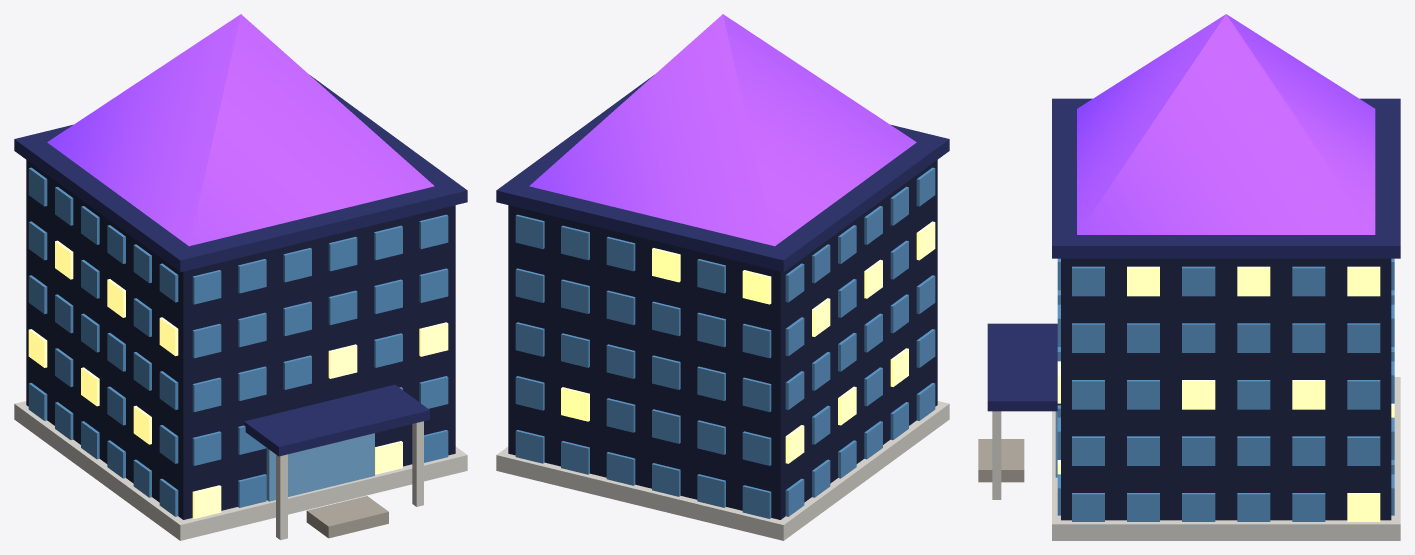
3 views of the same model, side by side, from view 1: azimuth 30°, elevation 25°; view 2: azimuth 150°, elevation 25°; view 3: azimuth 270°, elevation 25° (orthographic). The views are drawn at different scales.
Parts seen in each view (by area): view 1: body, glowing_pyramid, windows, cornice, plinth, entry_canopy, lobby_glass, step, pillar_l, pillar_r; view 2: body, glowing_pyramid, windows, cornice, plinth; view 3: body, glowing_pyramid, windows, cornice, plinth, entry_canopy, step, pillar_r.
Boxes of the visible parts, left/top/right/bottom form: body: left=26, top=160, right=455, bottom=519; glowing_pyramid: left=47, top=14, right=434, bottom=246; windows: left=28, top=167, right=448, bottom=518; cornice: left=14, top=74, right=467, bottom=272; plinth: left=14, top=401, right=467, bottom=540; entry_canopy: left=244, top=384, right=429, bottom=456; lobby_glass: left=266, top=433, right=374, bottom=501; step: left=306, top=496, right=388, bottom=538; pillar_l: left=276, top=454, right=287, bottom=540; pillar_r: left=412, top=421, right=423, bottom=506; body: left=508, top=160, right=937, bottom=519; glowing_pyramid: left=529, top=14, right=916, bottom=246; windows: left=515, top=167, right=935, bottom=518; cornice: left=496, top=74, right=949, bottom=272; plinth: left=496, top=401, right=949, bottom=540; body: left=1061, top=258, right=1391, bottom=520; glowing_pyramid: left=1077, top=14, right=1375, bottom=234; windows: left=1057, top=258, right=1394, bottom=521; cornice: left=1052, top=98, right=1400, bottom=258; plinth: left=1052, top=377, right=1400, bottom=540; entry_canopy: left=987, top=323, right=1060, bottom=411; step: left=978, top=439, right=1024, bottom=482; pillar_r: left=992, top=411, right=1001, bottom=499.
Bounding box in the file's own units: 3.8 × 5.45 × 4.6.
